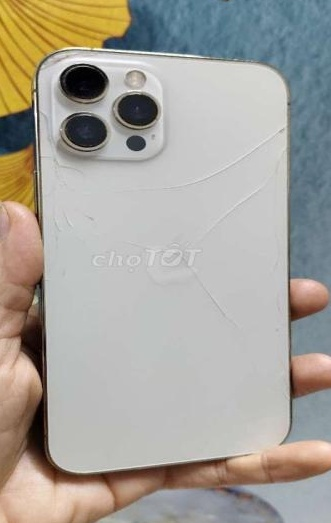physical_damage: (37, 100, 290, 375)
